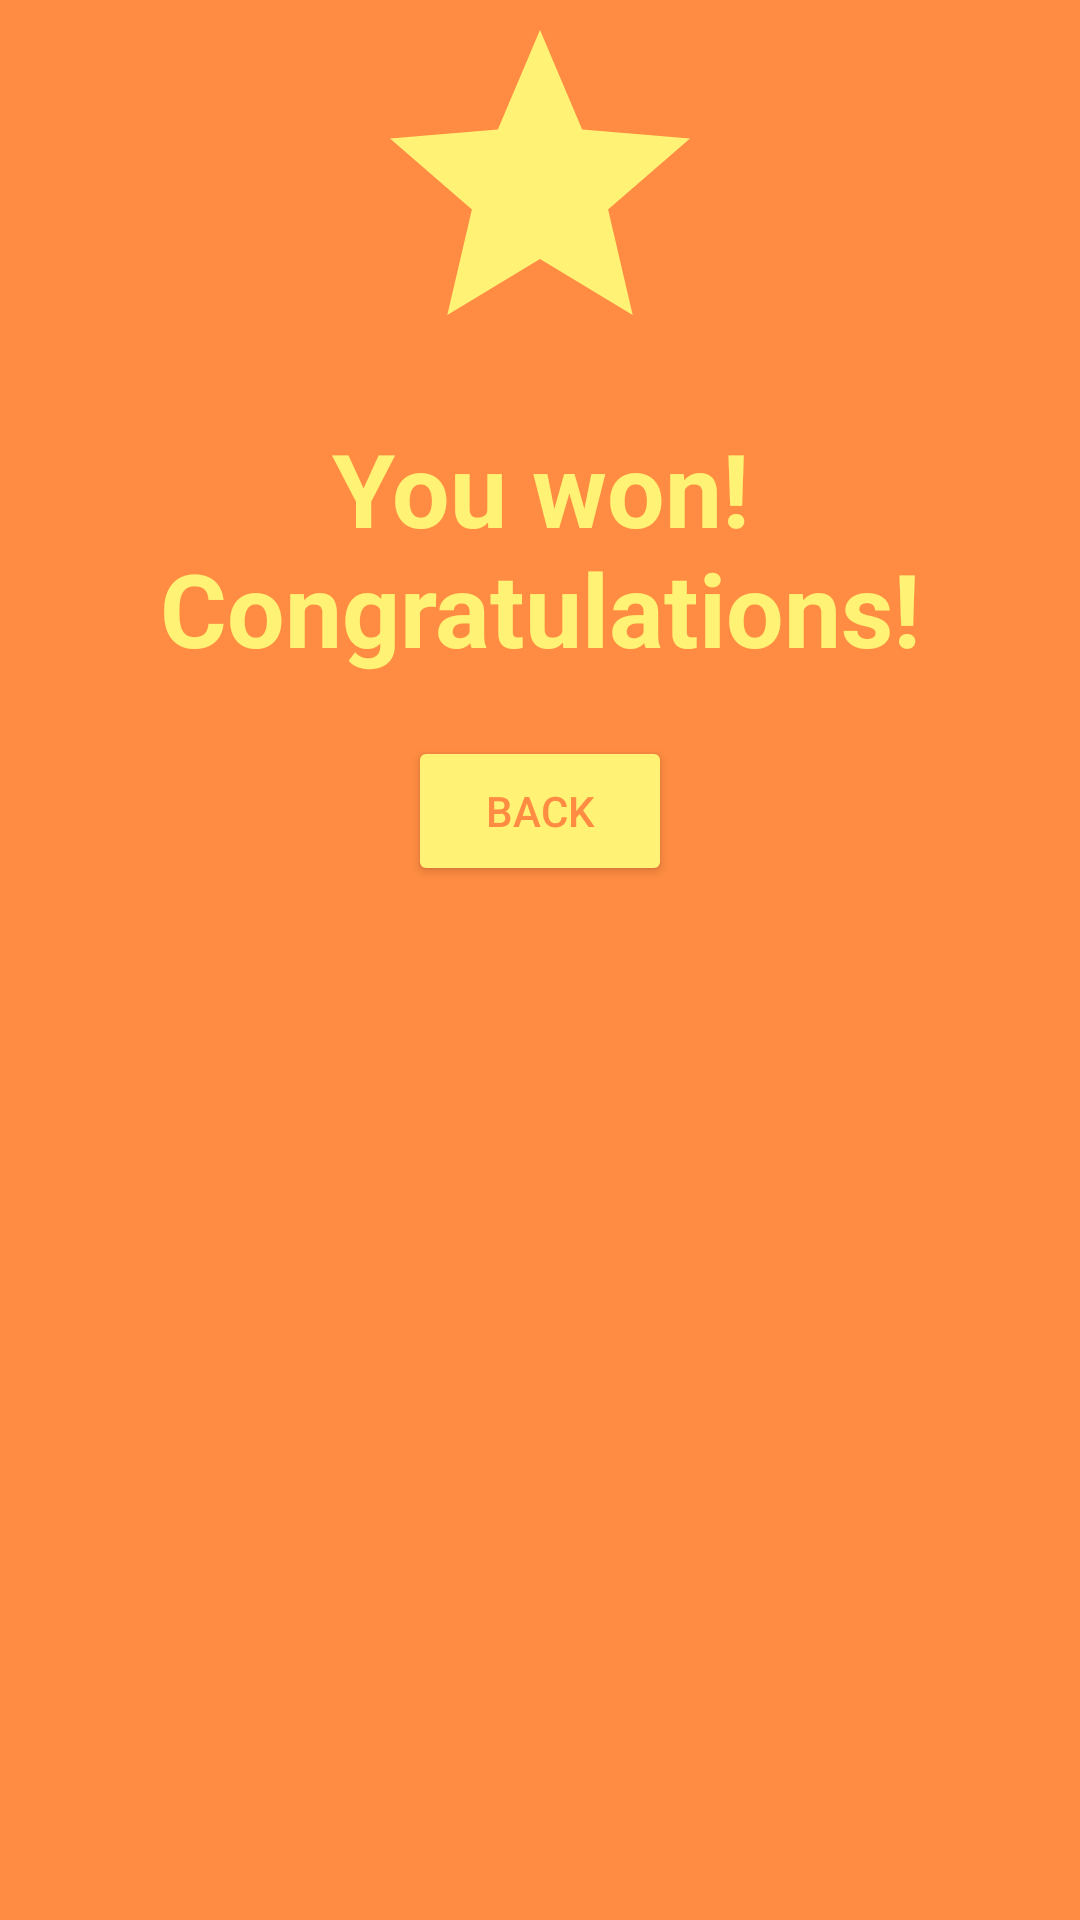

Screen size 1080 × 1920. Icon name, then its box in pixels as bbox=[x1, y1, x2, y2]:
winstar: bbox=[390, 31, 690, 315]
